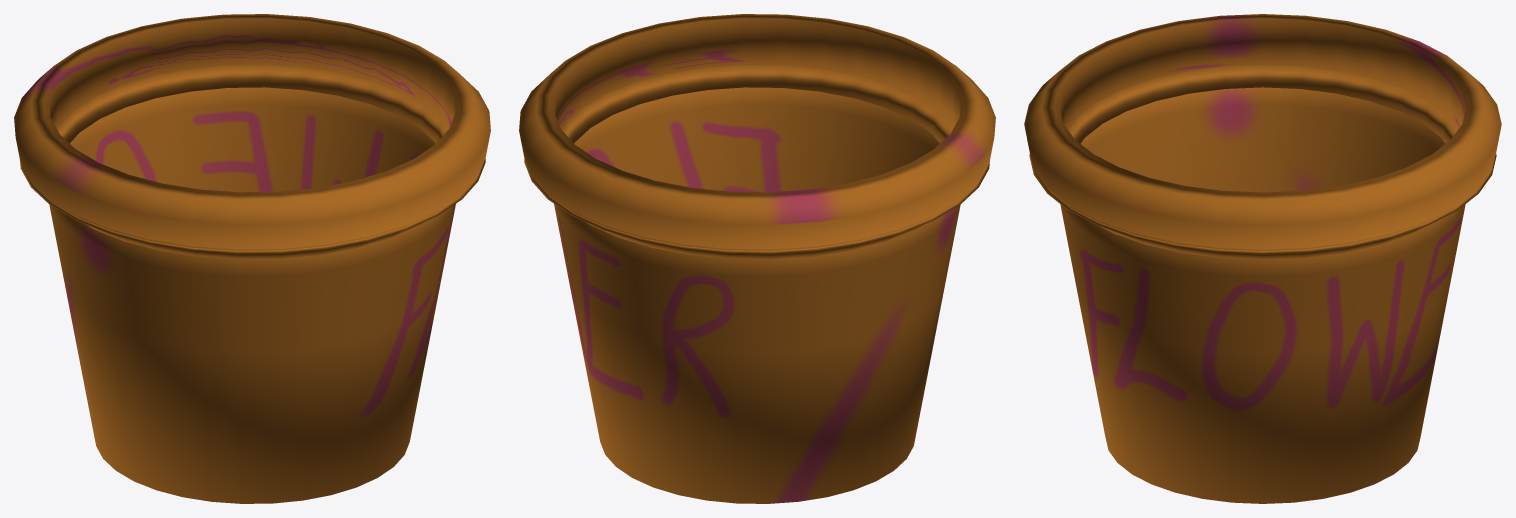
File: PotTest.fbx
3 views of the same model, side by side, from view 1: azimuth 30°, elevation 25°; view 2: azimuth 150°, elevation 25°; view 3: azimuth 270°, elevation 25° (orthographic).
Parts seen in each view (by area): view 1: Pot.005; view 2: Pot.005; view 3: Pot.005.
Part boxes in pixels (left/top/right/bottom): Pot.005: left=14, top=14, right=490, bottom=503; Pot.005: left=519, top=14, right=995, bottom=503; Pot.005: left=1024, top=14, right=1501, bottom=503.
Size of the model in its own units: 263 by 201 by 263.
1 material, 1 textured.
